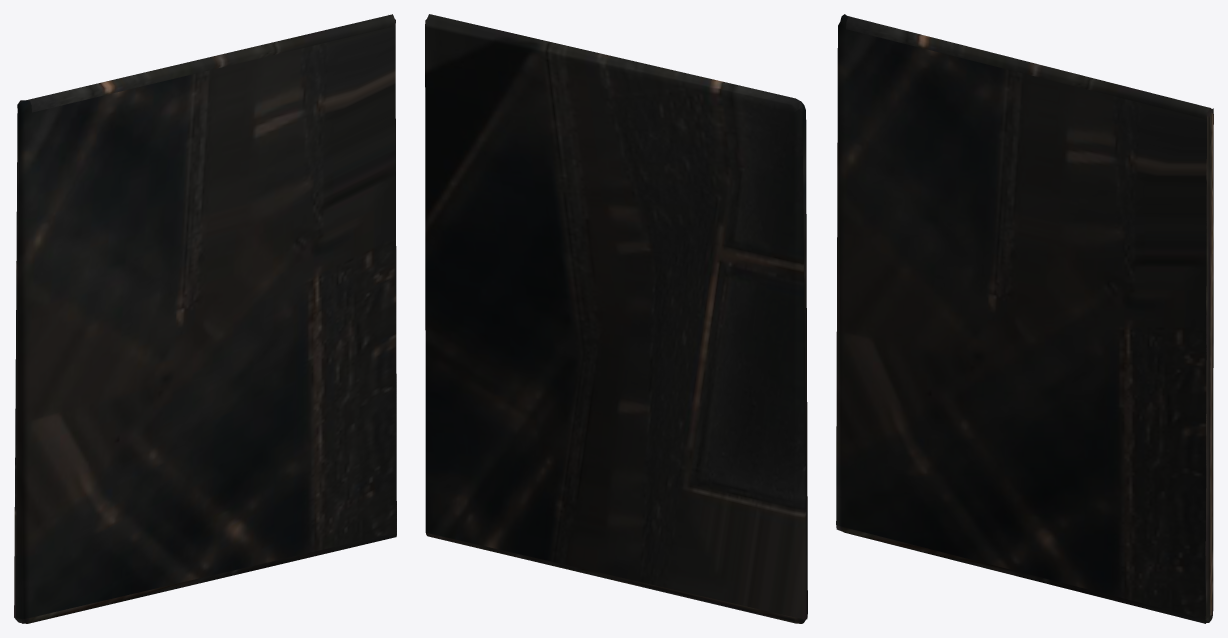
File: hospital sign2.fbx
3 views of the same model, side by side, from view 1: azimuth 30°, elevation 25°; view 2: azimuth 150°, elevation 25°; view 3: azimuth 330°, elevation 25° (orthographic).
Visible parts, largest first — view 1: hospital sign2; view 2: hospital sign2; view 3: hospital sign2.
Part boxes in pixels (x1=…): hospital sign2: x1=14, y1=14, x2=396, y2=623; hospital sign2: x1=425, y1=14, x2=807, y2=623; hospital sign2: x1=836, y1=14, x2=1213, y2=623.
Size of the model in its own units: 227 by 301 by 9.32.
